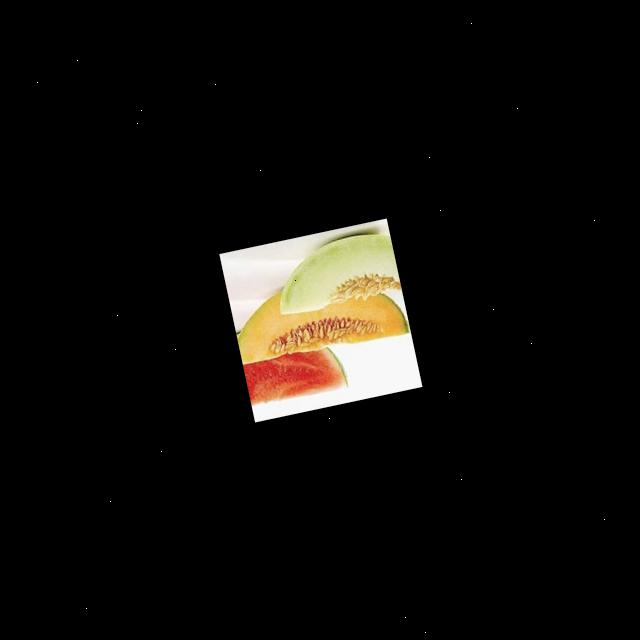Hami Melon: (233, 286, 410, 372)
